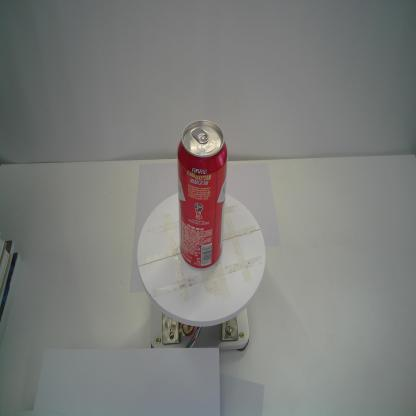Alcohol: (176, 119, 228, 270)
